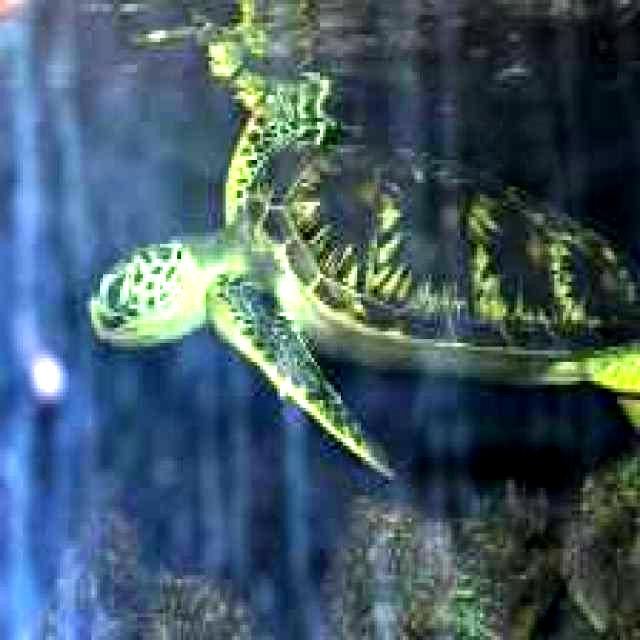Sea turtle: (91, 72, 640, 484)
